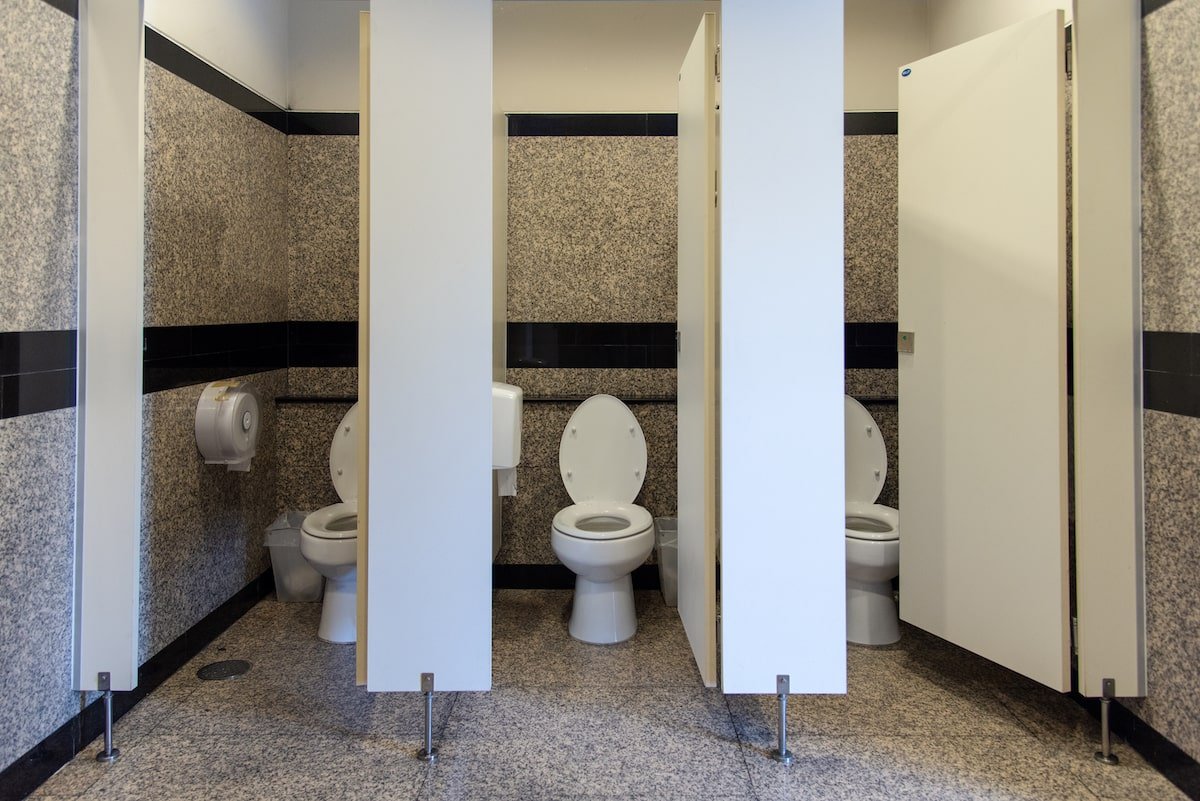dispenser: (195, 383, 259, 478), (490, 382, 522, 498)
toilet: (551, 393, 655, 645), (300, 401, 362, 645), (844, 394, 899, 644)
waste_bin: (263, 510, 325, 603), (653, 516, 677, 607)
